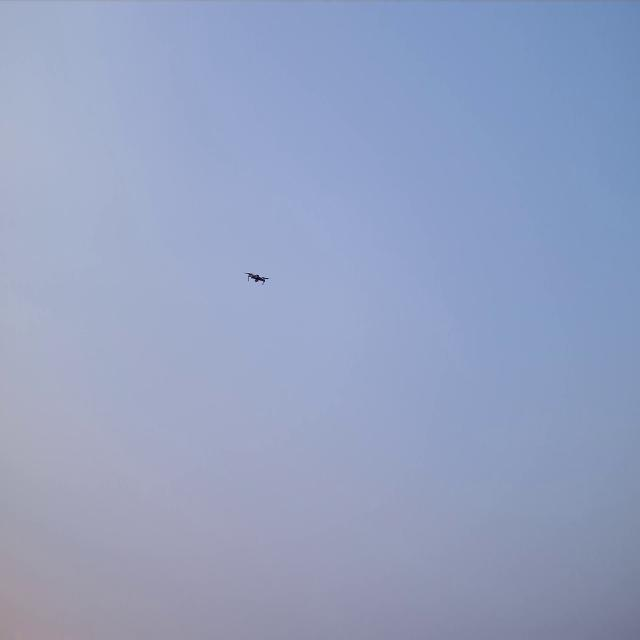UAV: (243, 271, 270, 286)
